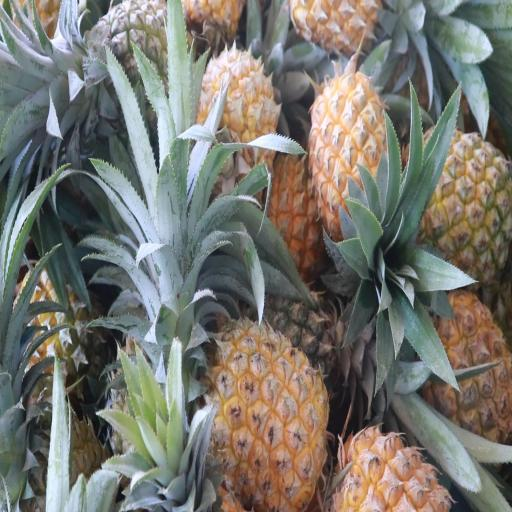Pineapple - v8 v1: (213, 306, 328, 512), (419, 288, 512, 442), (420, 132, 511, 282), (311, 71, 393, 237), (334, 423, 453, 512), (200, 51, 277, 184)
